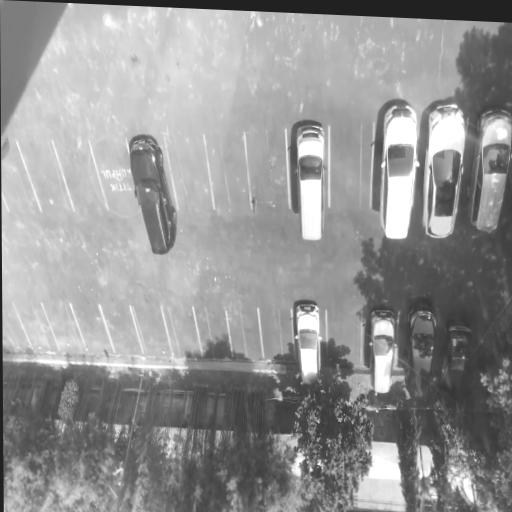Car: (419, 99, 471, 243), (124, 134, 182, 257), (377, 98, 421, 242), (466, 103, 512, 237), (293, 119, 330, 244), (400, 299, 443, 402), (434, 321, 478, 405), (292, 301, 324, 394), (369, 305, 398, 397)
Space Available: (203, 131, 252, 215), (16, 141, 73, 213), (52, 139, 107, 209), (243, 126, 289, 208), (329, 125, 373, 210), (164, 137, 214, 211), (88, 141, 139, 209), (1, 141, 40, 215), (98, 302, 144, 356), (70, 305, 115, 355), (42, 304, 86, 354), (160, 305, 201, 358), (326, 308, 362, 368), (130, 305, 172, 356), (13, 306, 59, 352), (193, 309, 233, 360), (225, 309, 264, 361), (258, 307, 295, 360), (3, 308, 31, 351)
